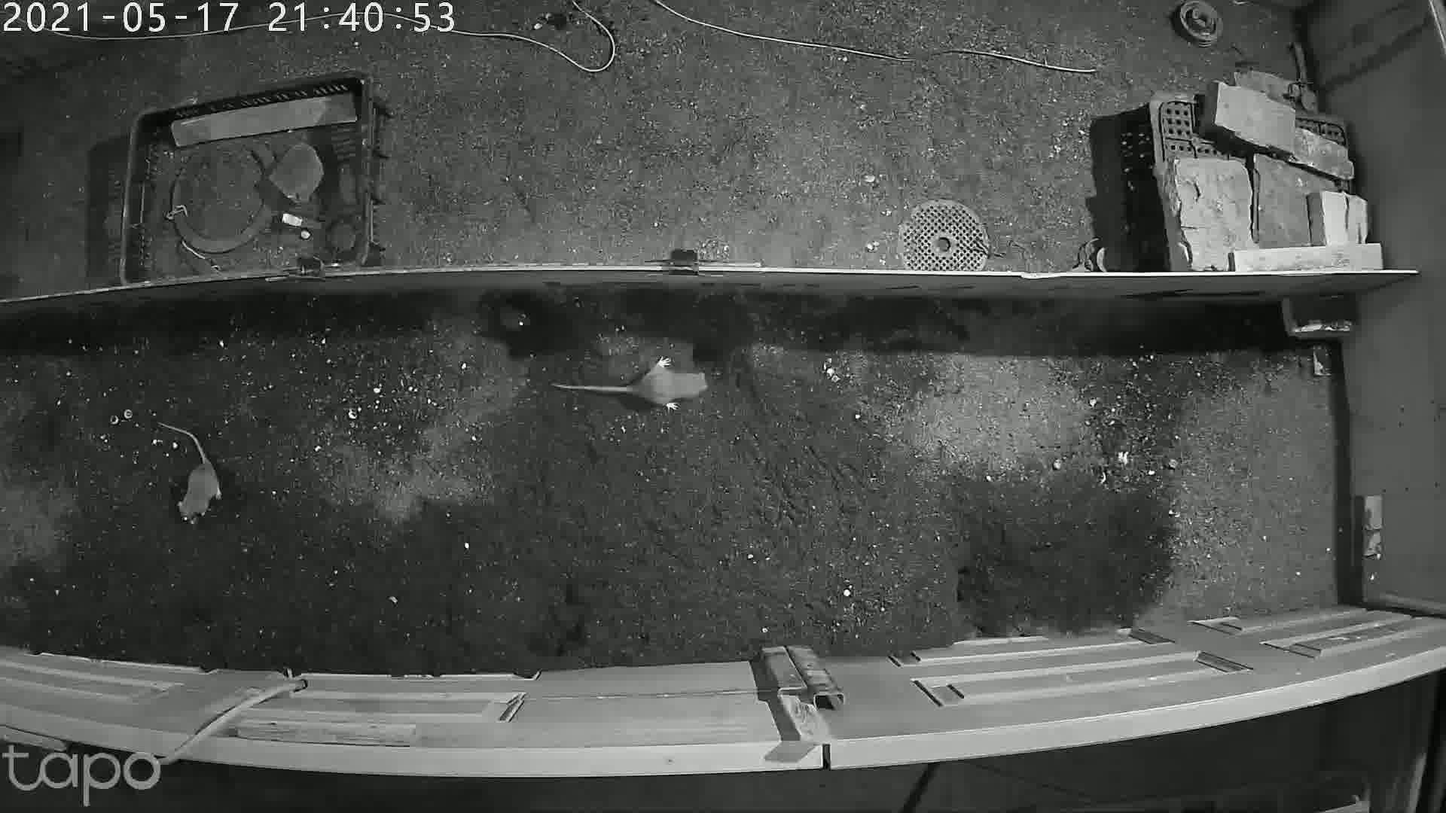rat: (538, 348, 724, 428), (134, 391, 226, 534)
